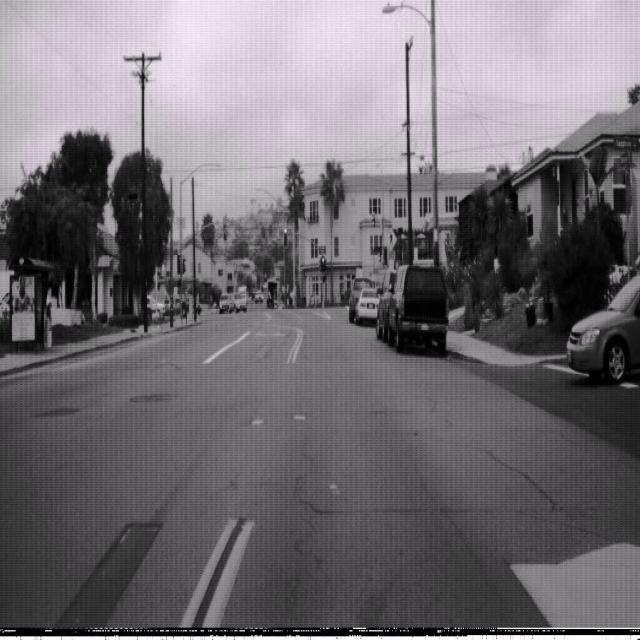pedestrianCrossing: (383, 226, 398, 251)
